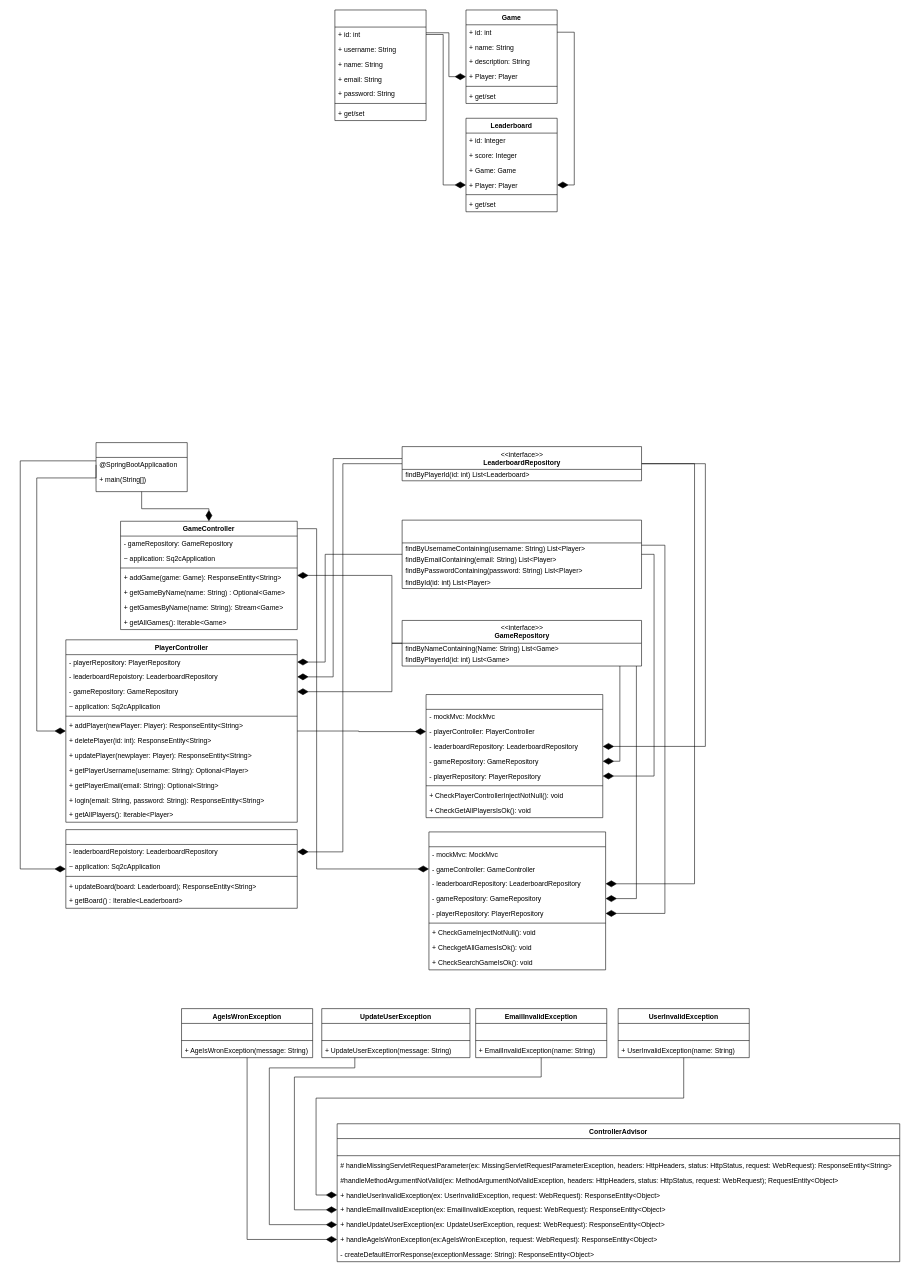
The diagram is 910 pixels wide and 1273 high, and some of its shapes have lost their labels. The shapes that lost their labels are listed below. From the top down, each one's box as (x1, y1, x2, y2) in pixels, then its label:
(334, 9, 426, 121): Player
(95, 442, 187, 492): Sq2cApplication
(402, 520, 642, 589): <<interface>> PlayerRepository
(426, 694, 603, 818): PlayerControllerTest
(65, 829, 297, 908): LeaderboardController
(428, 831, 606, 970): GameControllerTest
